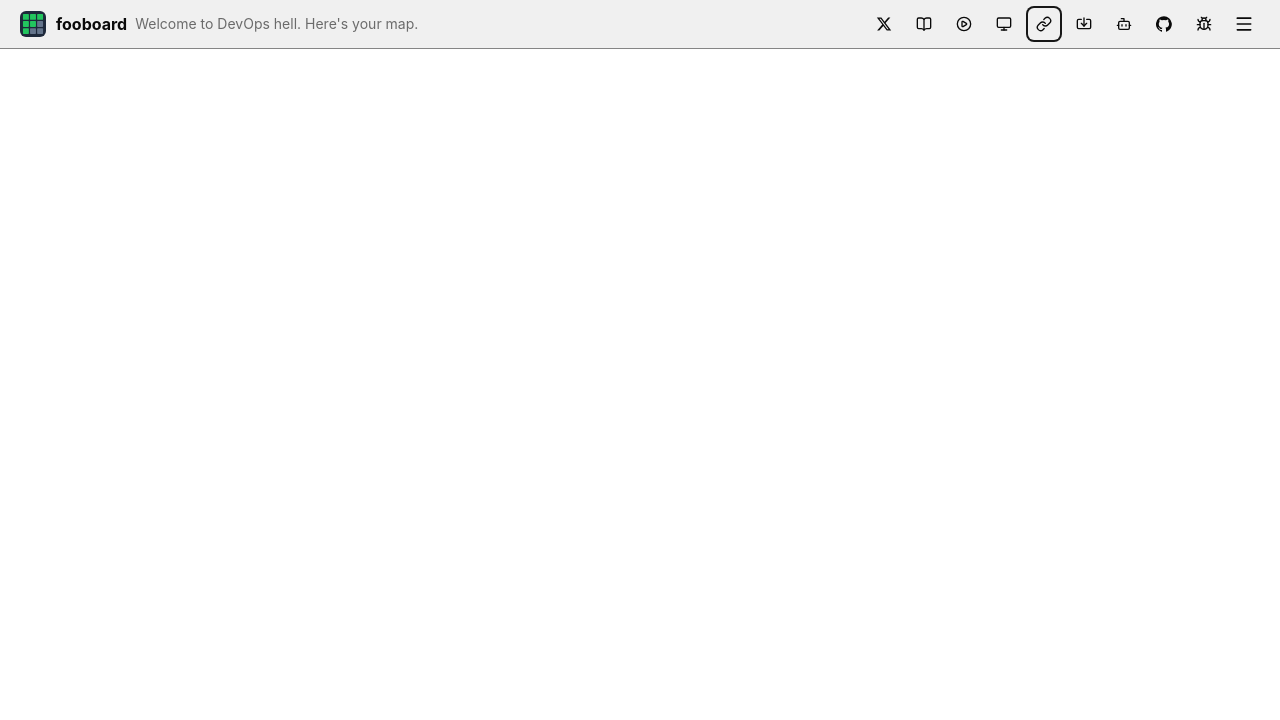
it: Header › returns focus to the Share / Export button after Escape
This screenshot has width=1280, height=720.
Click the button named "Share / Export": (1044,24) x1=1028 y1=8 x2=1060 y2=40
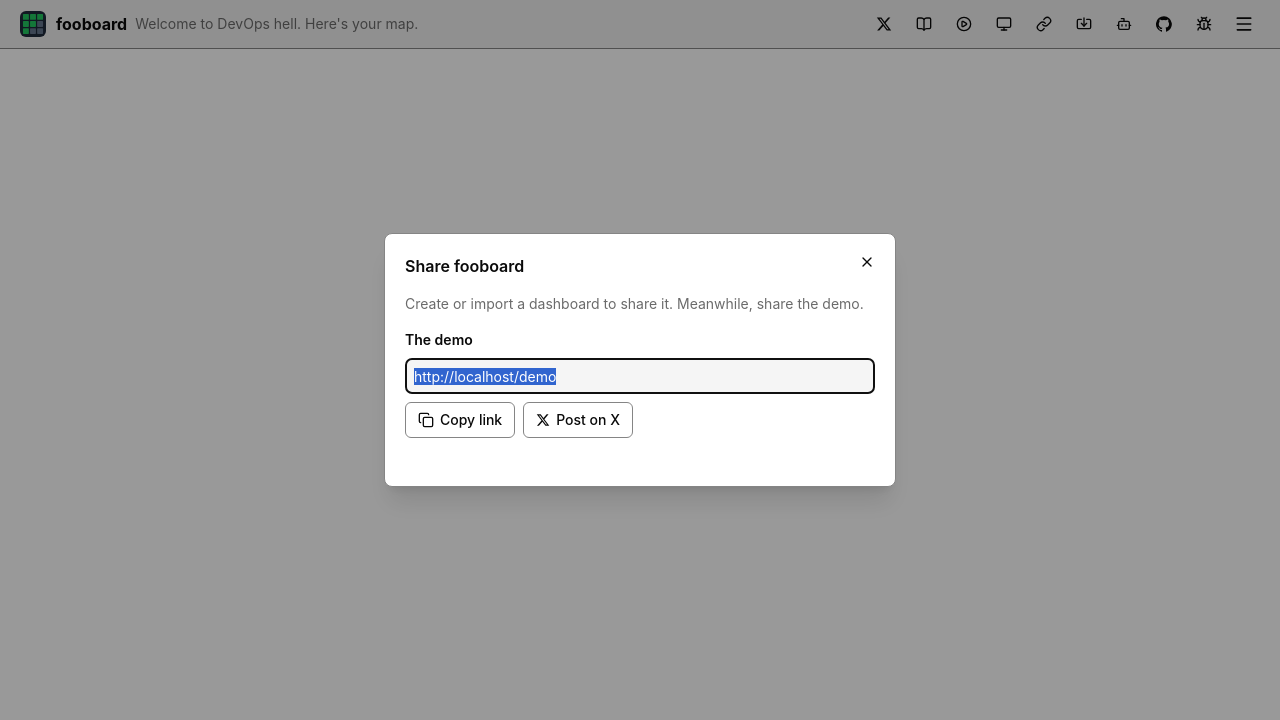
Press Escape in the dialog, box x1=384 y1=233 x2=896 y2=487
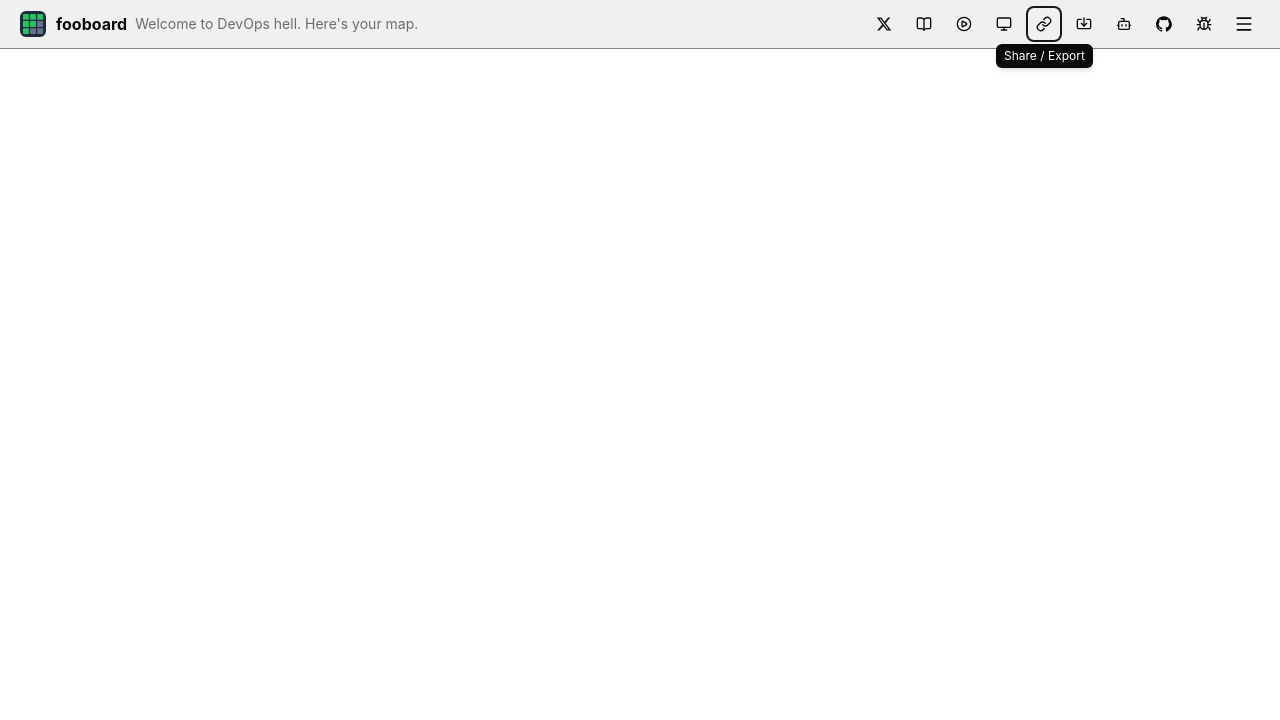
Result: the dialog is gone
